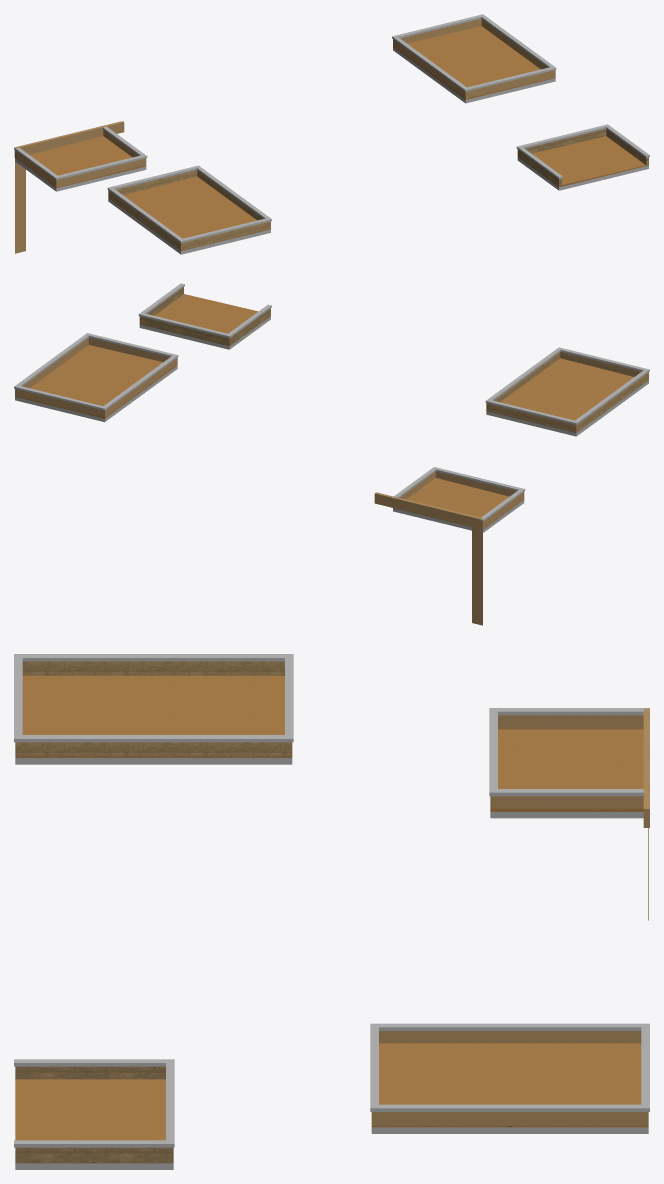
File: roof-bundle-fountain-court.glb
3 renders of one model, top to bottom at view 1: azimuth 30°, elevation 25°; view 2: azimuth 150°, elevation 25°; view 3: azimuth 270°, elevation 25°, orthographic. The views are drawn at different scales.
Visible parts, largest first — view 1: bz06_faded_ochre-receive, ph_bz04_stone_trim_sandstone-cast, bz06_sand_plaster-cast, bz06_dressed_sandstone-cast; view 2: bz06_faded_ochre-receive, ph_bz04_stone_trim_sandstone-cast, bz06_sand_plaster-cast, bz06_dressed_sandstone-cast; view 3: bz06_faded_ochre-receive, ph_bz04_stone_trim_sandstone-cast, bz06_dressed_sandstone-cast, bz06_sand_plaster-cast.
Part boxes in pixels (bbox=[...]): bz06_faded_ochre-receive: bbox=[15, 26, 646, 250]; ph_bz04_stone_trim_sandstone-cast: bbox=[14, 14, 649, 254]; bz06_sand_plaster-cast: bbox=[14, 18, 555, 253]; bz06_dressed_sandstone-cast: bbox=[108, 129, 648, 251]; bz06_faded_ochre-receive: bbox=[15, 294, 646, 529]; ph_bz04_stone_trim_sandstone-cast: bbox=[14, 283, 649, 533]; bz06_sand_plaster-cast: bbox=[15, 337, 524, 625]; bz06_dressed_sandstone-cast: bbox=[139, 287, 648, 433]; bz06_faded_ochre-receive: bbox=[15, 675, 648, 1163]; ph_bz04_stone_trim_sandstone-cast: bbox=[14, 654, 649, 1169]; bz06_dressed_sandstone-cast: bbox=[15, 661, 292, 1163]; bz06_sand_plaster-cast: bbox=[371, 708, 649, 1127].
Size of the model in its own units: 26.06 by 7.13 by 16.06.
5 materials, 4 textured.
